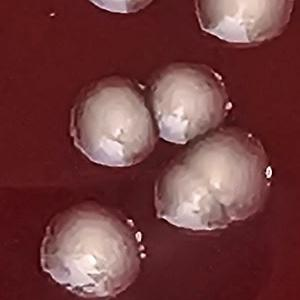colony: (167, 124, 282, 241), (34, 196, 148, 300), (65, 70, 163, 169), (143, 56, 239, 151), (151, 155, 239, 242), (188, 0, 300, 57), (84, 0, 165, 24)
